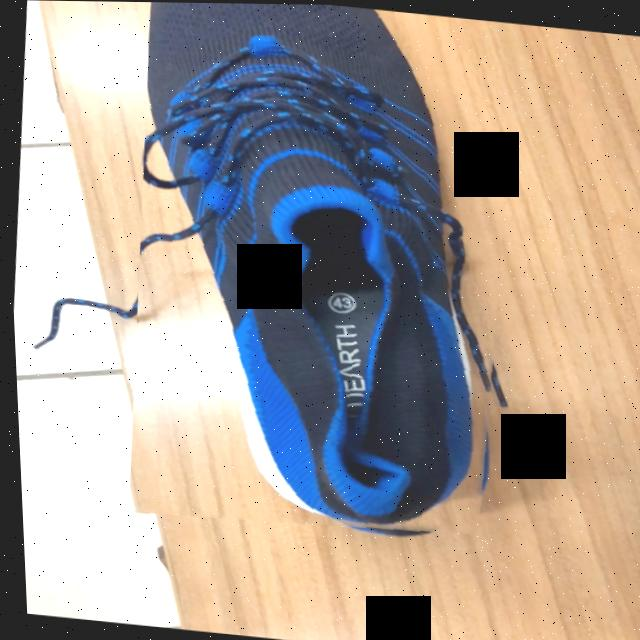shoe: (141, 2, 490, 529)
